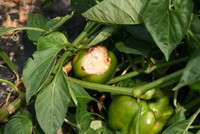capsicum: (70, 44, 118, 82)
